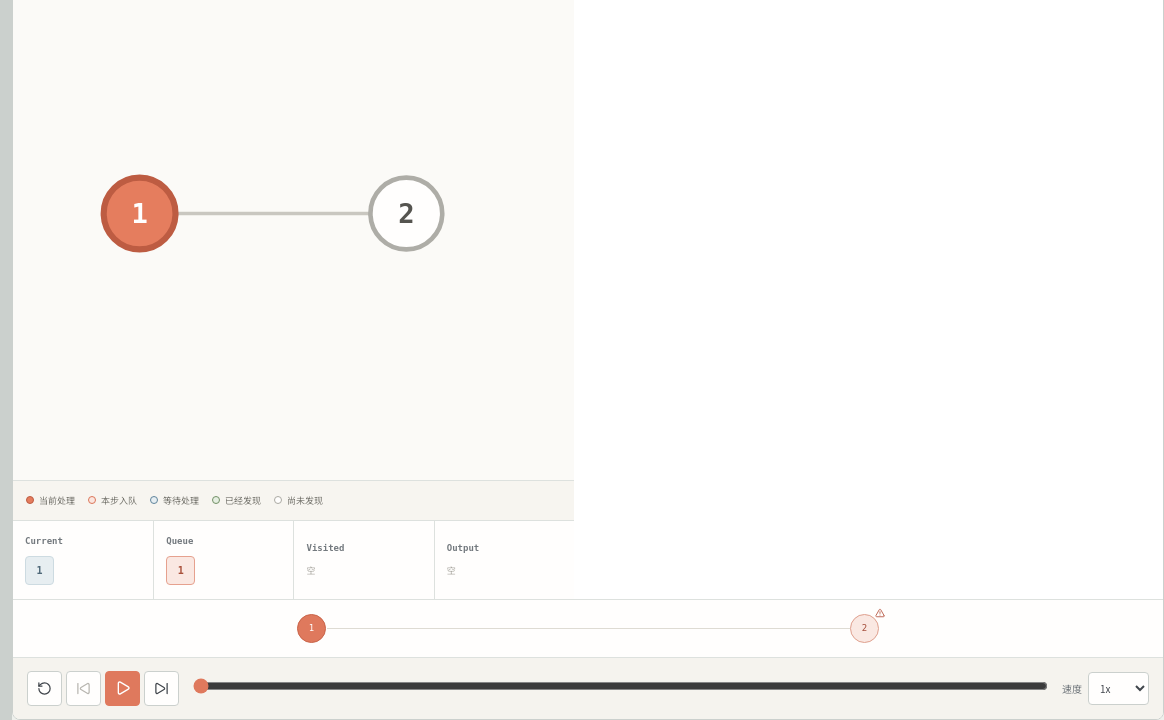
Scenario: AlgorithmTracePlayer › plays to the final step and can reset
(page scrolled)
Click the button named "播放轨迹". click: x=122, y=688
box: [105,671,140,706]
Wait 1100 ms
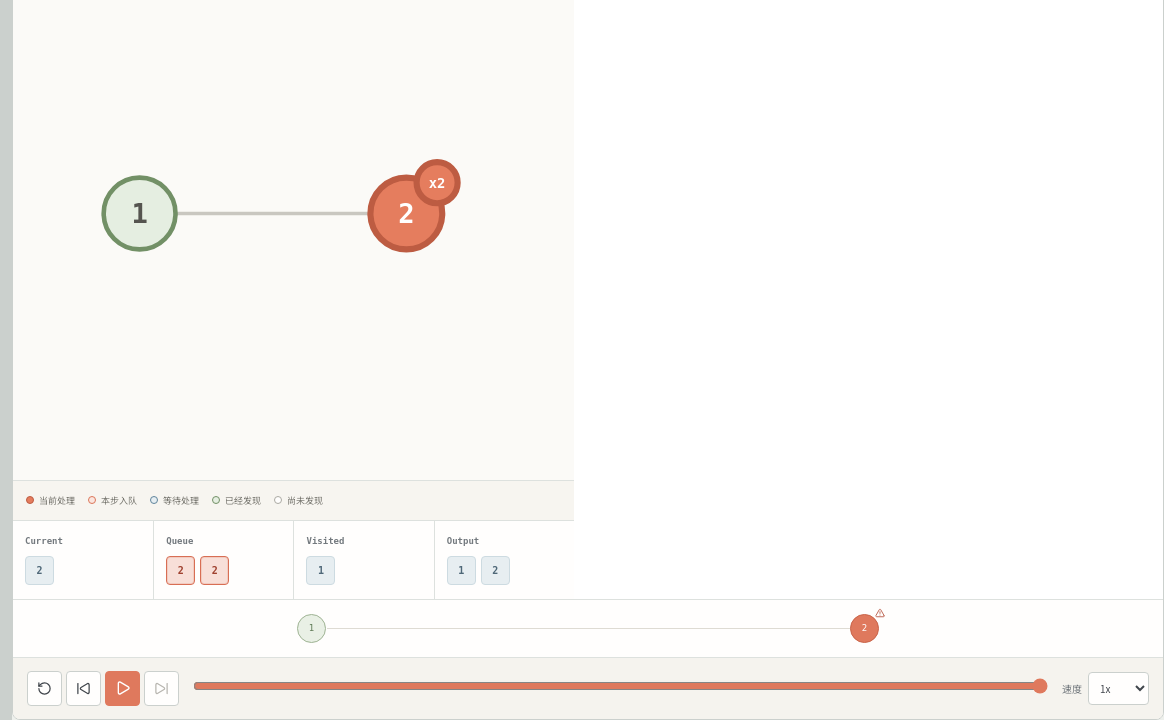
Click the button named "回到起点". click: x=44, y=688
box: [27,671,62,706]
(page scrolled)
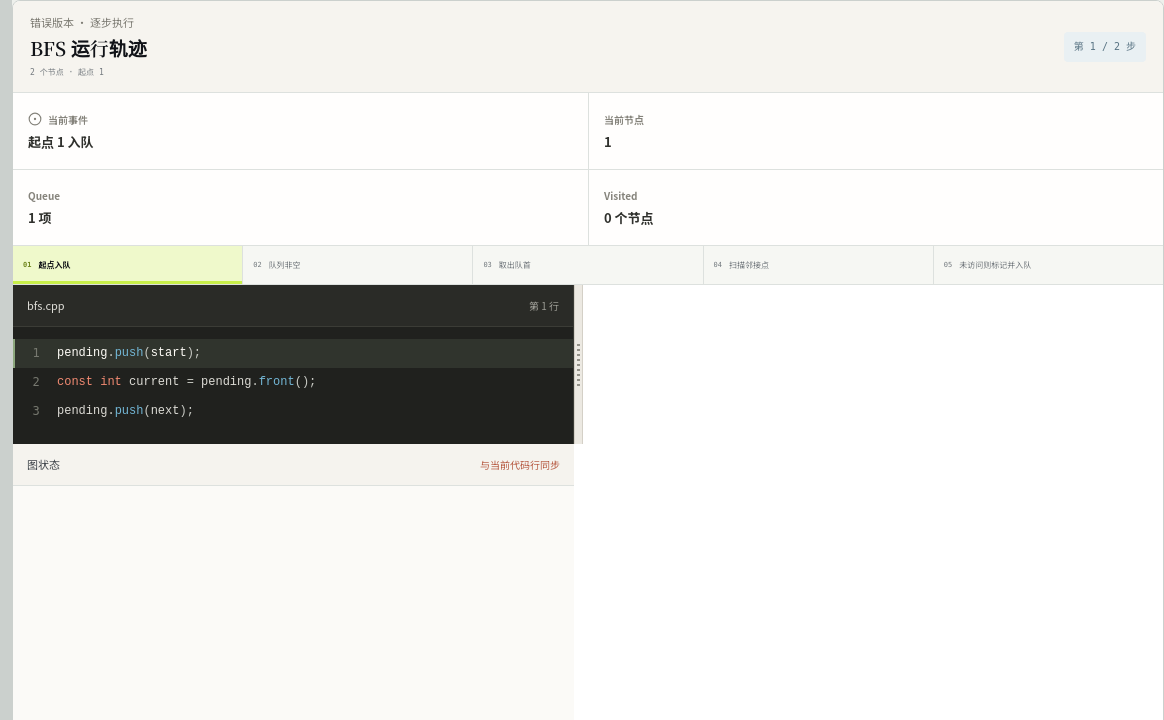
Expected: the text "起点 1 入队" is shown, [28,132,94,151]
